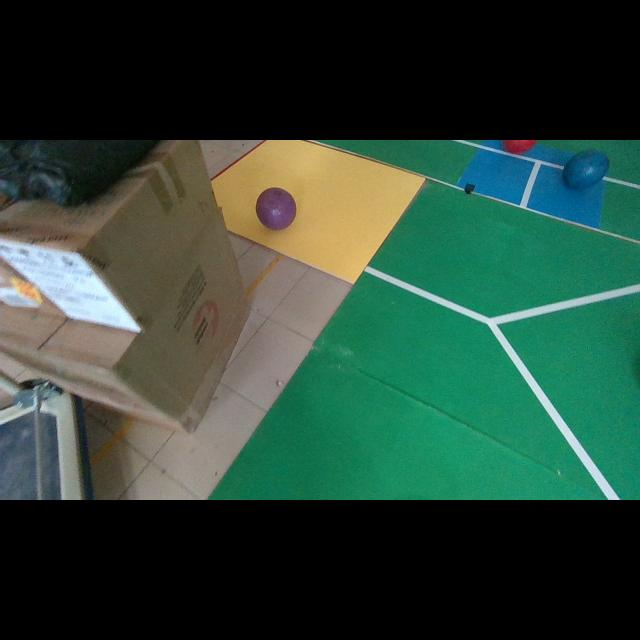B: (562, 150, 609, 189)
P: (256, 188, 296, 230)
R: (502, 141, 538, 153)
